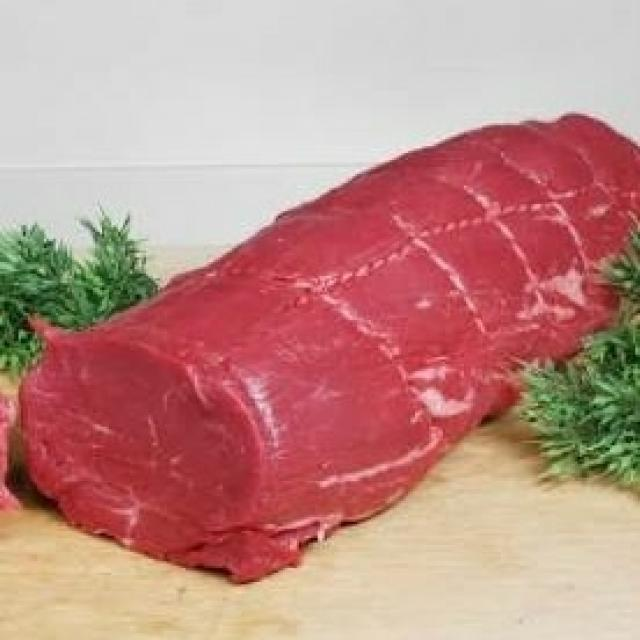Beef: (3, 97, 640, 565)
